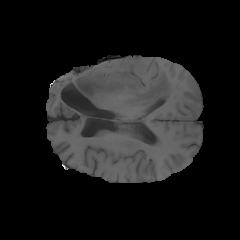glioma: (52, 66, 172, 118)
